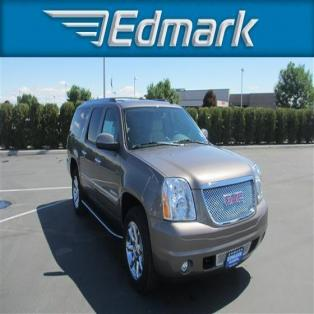Auto: (66, 94, 272, 294)
